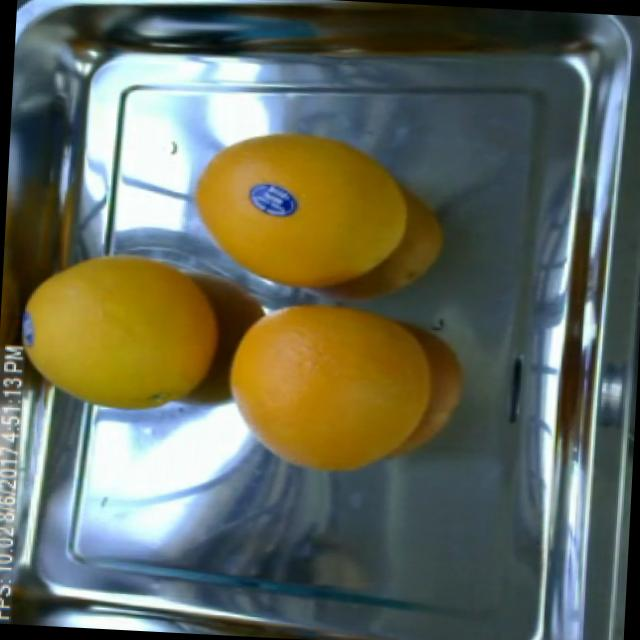Fruit: (0, 238, 228, 429), (271, 139, 459, 318), (240, 176, 308, 222)
